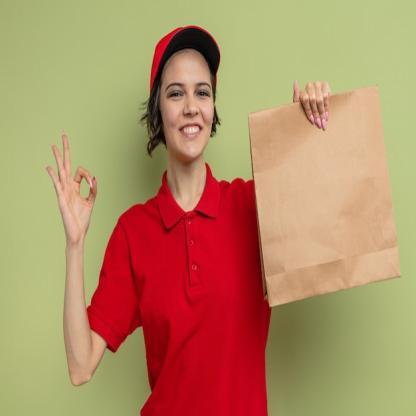ok: (47, 132, 98, 240)
